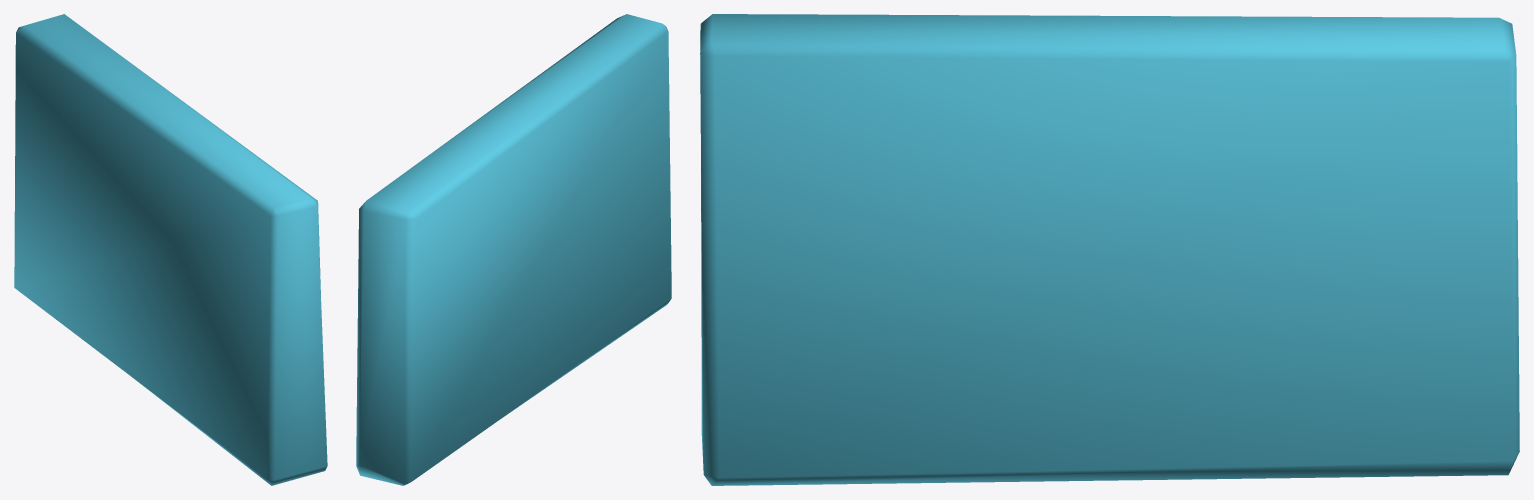
File: wall_03.FBX
3 views of the same model, side by side, from view 1: azimuth 30°, elevation 25°; view 2: azimuth 150°, elevation 25°; view 3: azimuth 270°, elevation 25° (orthographic). The views are drawn at different scales.
Parts seen in each view (by area): view 1: wall_03; view 2: wall_03; view 3: wall_03.
Boxes of the visible parts, x1=… form: wall_03: x1=14, y1=14, x2=327, y2=485; wall_03: x1=356, y1=14, x2=671, y2=485; wall_03: x1=700, y1=14, x2=1519, y2=485.
Bounding box in the file's own units: 15.95 × 68.29 × 116.
